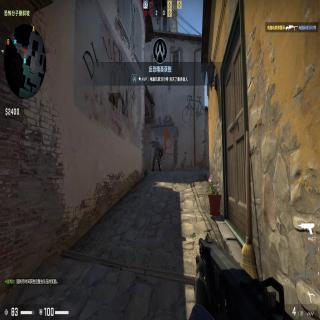T-Body: (151, 136, 161, 172)
